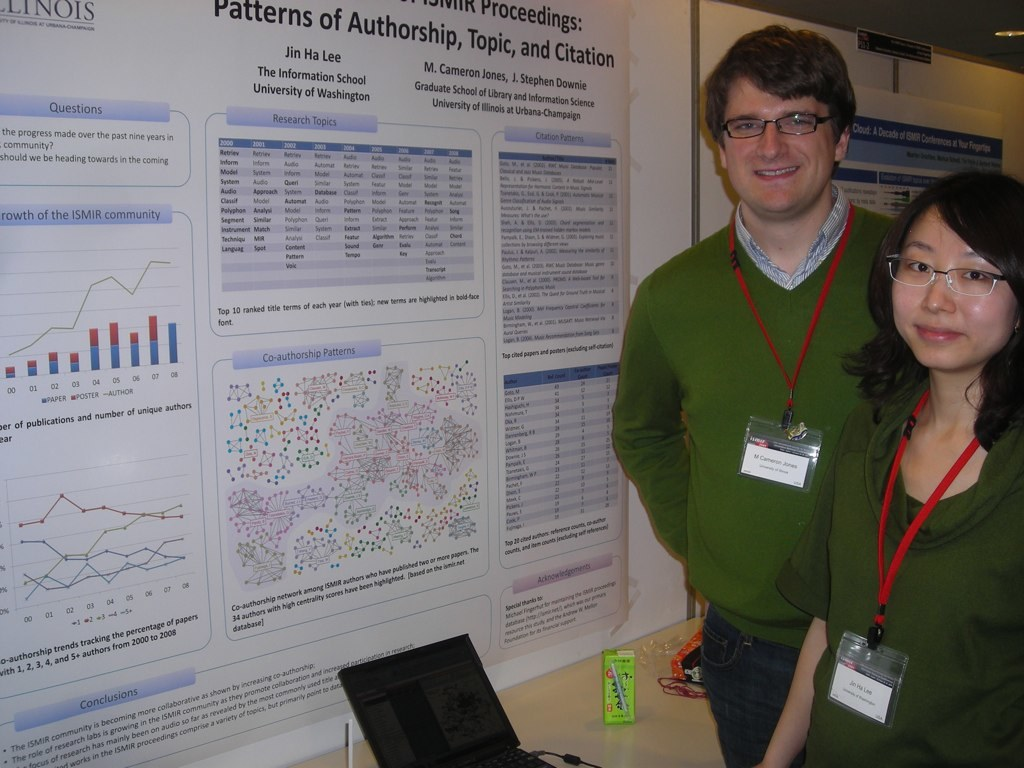Person: (611, 24, 904, 768)
